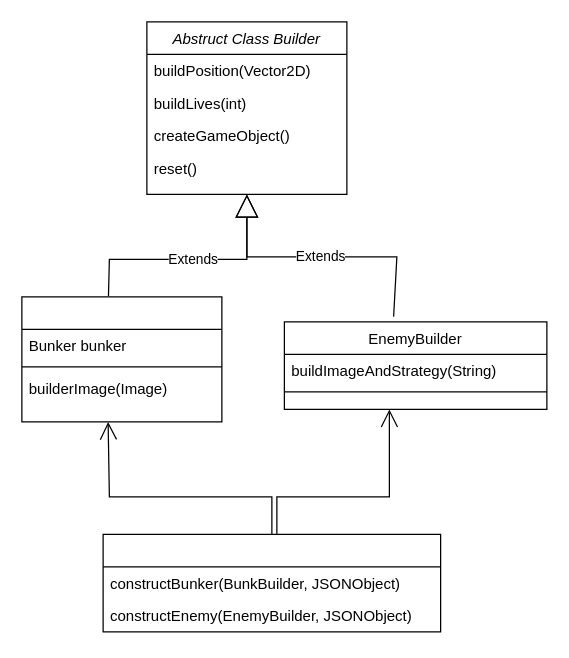
Image size: 569x658. Some labels were removed from this diagram. The shapes that lost their labels are listed below. From the top down, each one's box as (x1, y1, x2, y2) in pixels, then its label:
(21, 296, 222, 422): BunkBuilder
(102, 533, 441, 632): Director
